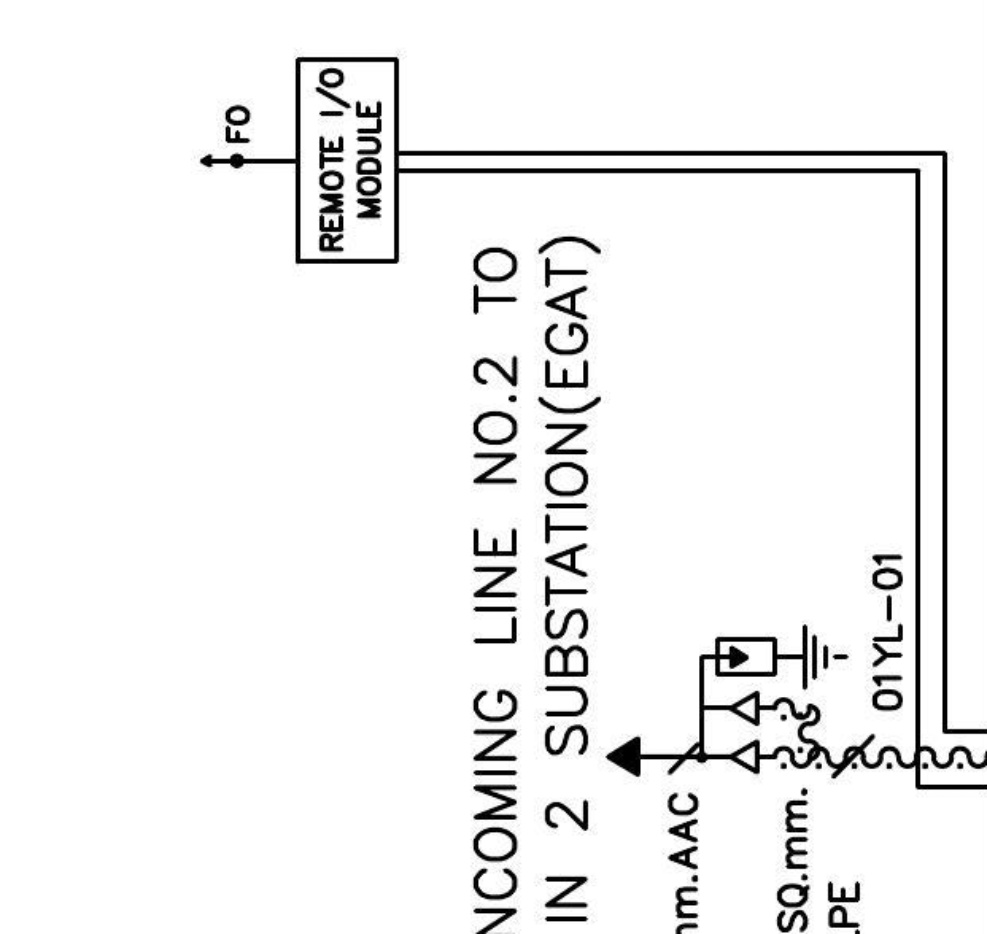115_la: (715, 623, 850, 691)
remote_io_module: (295, 57, 399, 265)
terminator_double: (698, 689, 761, 776)
